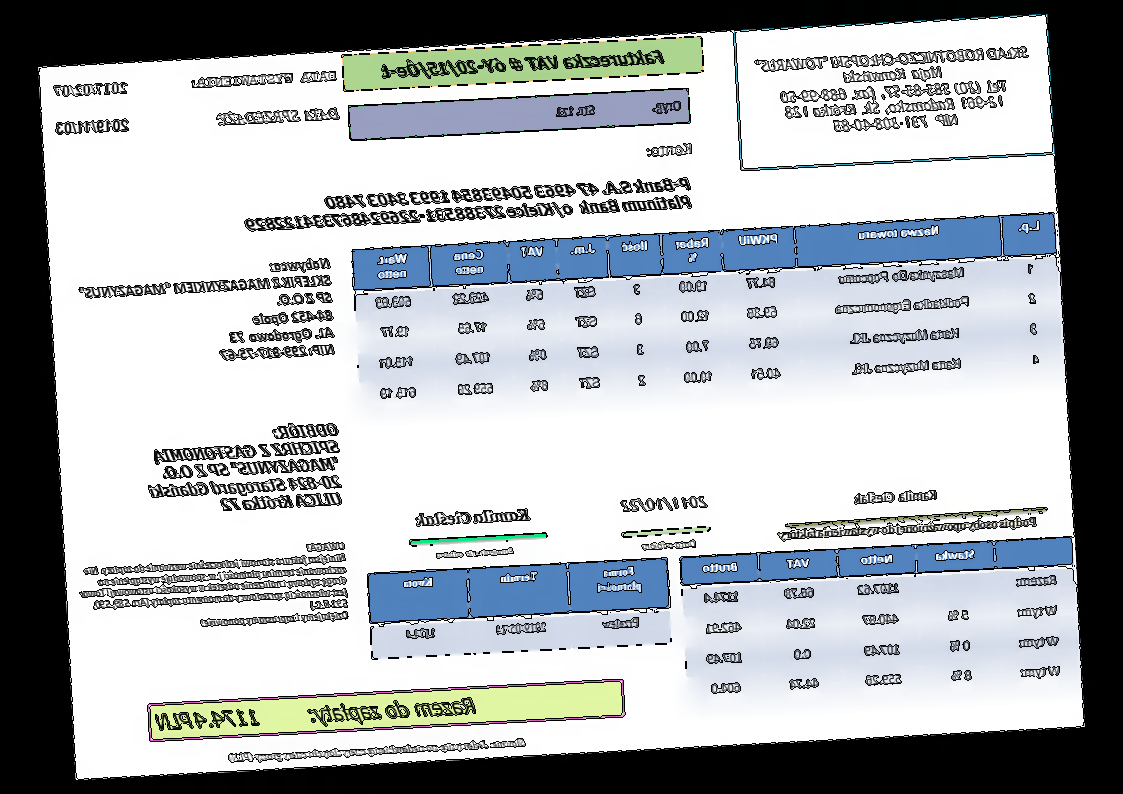Table: (351, 211, 1065, 414), (678, 535, 1081, 708), (367, 555, 673, 661)
TextBox: (76, 254, 337, 372), (243, 174, 695, 234), (752, 43, 1034, 138), (75, 540, 351, 637), (142, 420, 343, 518), (152, 691, 479, 736), (378, 45, 667, 84), (226, 733, 527, 766), (776, 513, 1040, 544), (188, 67, 341, 92), (555, 97, 684, 122), (213, 104, 341, 128), (412, 504, 532, 529), (619, 492, 709, 515), (52, 77, 130, 101), (54, 115, 132, 138), (853, 487, 940, 507), (435, 545, 516, 560), (645, 140, 695, 161), (642, 538, 699, 553)
